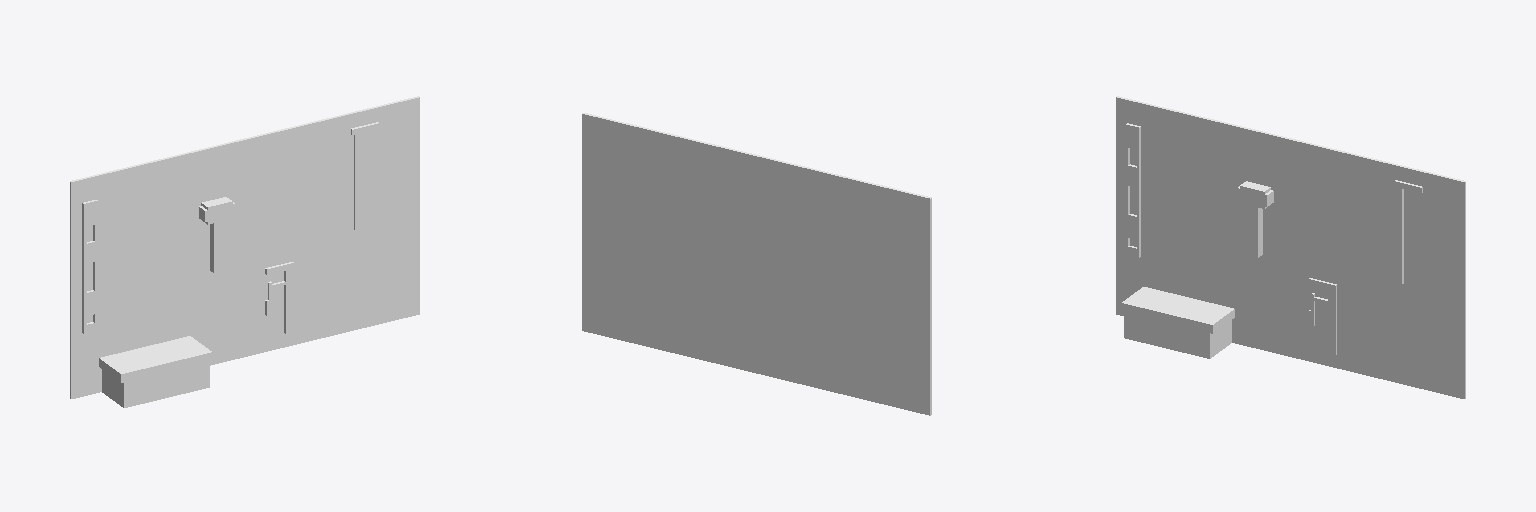
File: muralHerramientas.obj
3 renders of one model, left to right at view 1: azimuth 30°, elevation 25°; view 2: azimuth 150°, elevation 25°; view 3: azimuth 330°, elevation 25°, orthographic.
Visible parts, largest first — view 1: object 1; view 2: object 1; view 3: object 1.
Boxes of the visible parts, x1=… form: object 1: x1=70, y1=96, x2=419, y2=407; object 1: x1=582, y1=113, x2=931, y2=415; object 1: x1=1116, y1=96, x2=1465, y2=398.
Size of the model in its own units: 12.6 by 7.5 by 1.5.